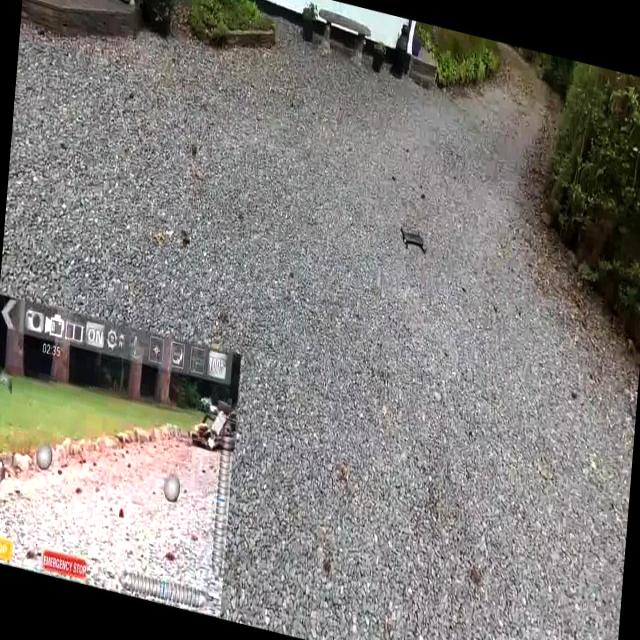drone: (399, 218, 428, 264)
